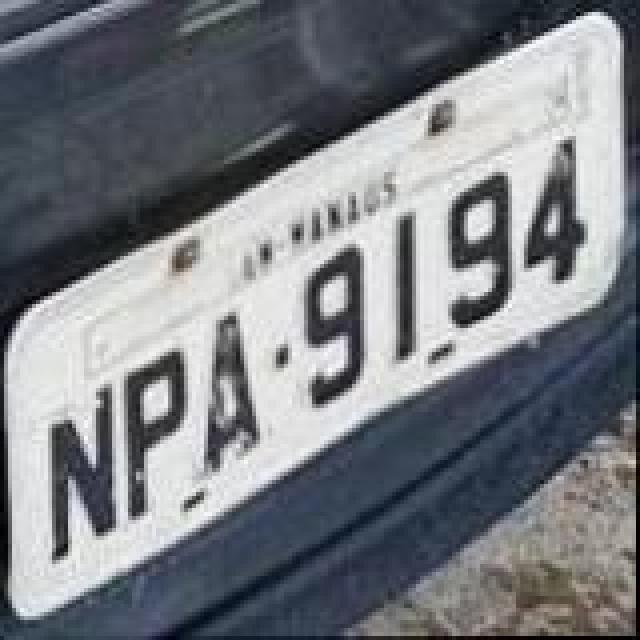1: (394, 208, 418, 364)
4: (526, 136, 590, 288)
9: (444, 174, 512, 334), (302, 242, 366, 410)
A: (202, 312, 266, 484)
N: (52, 380, 120, 564)
P: (126, 348, 190, 524)
